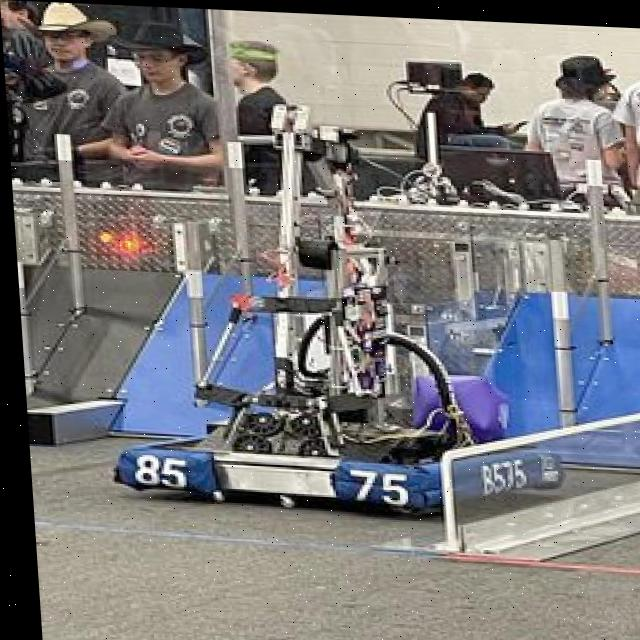robot: (86, 95, 563, 518)
